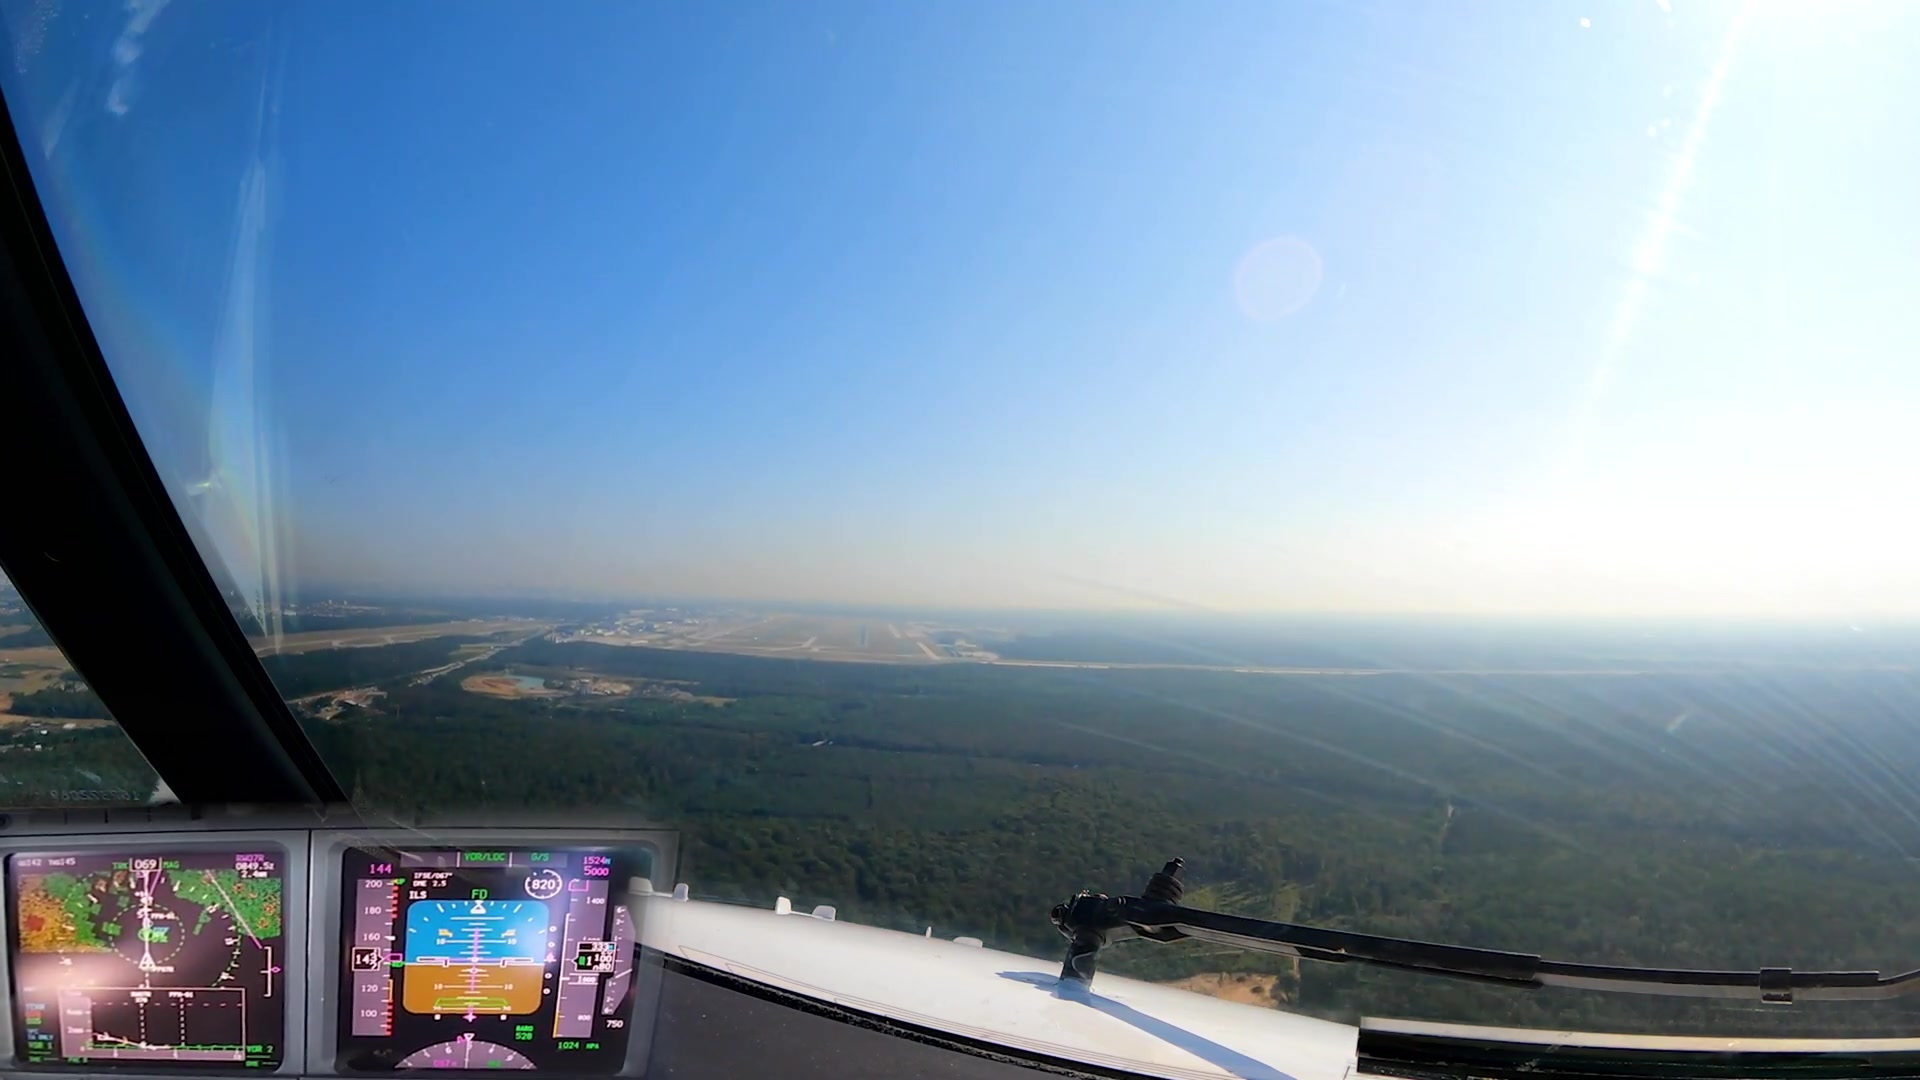runway: (855, 617, 870, 651)
